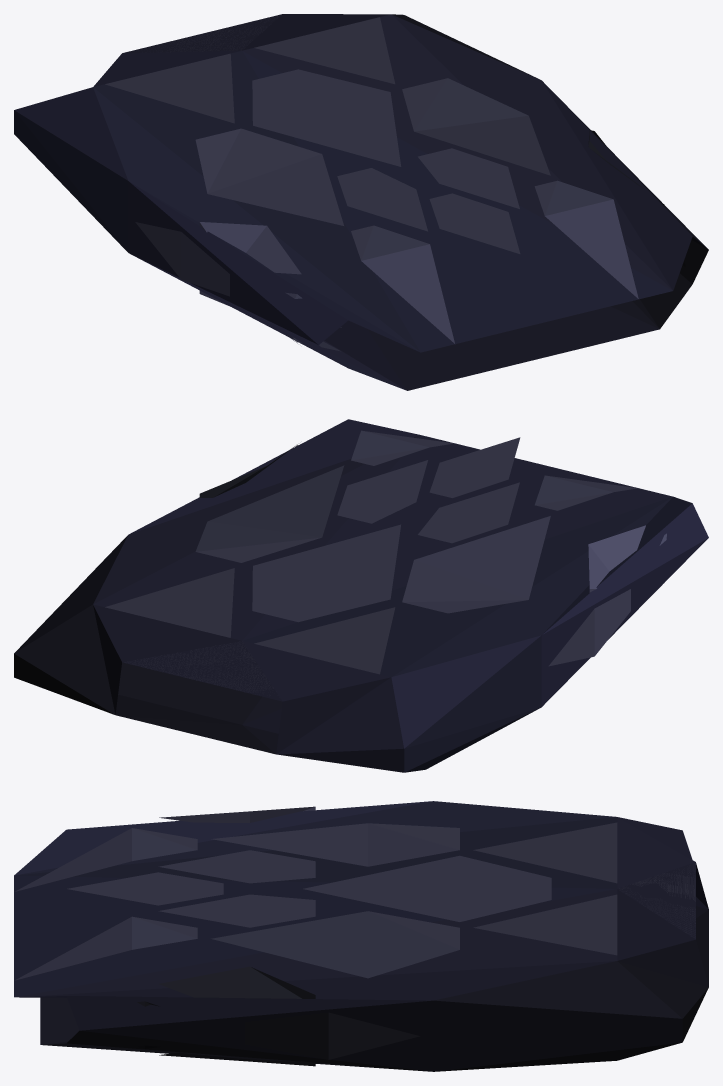
The model's file is blue-dhide-body.obj.
3 views of the same model, one above another, from view 1: azimuth 30°, elevation 25°; view 2: azimuth 150°, elevation 25°; view 3: azimuth 270°, elevation 25° (orthographic).
Parts seen in each view (by area): view 1: Item Blue d'hide body 2026-09-24_17-11-01; view 2: Item Blue d'hide body 2026-09-24_17-11-01; view 3: Item Blue d'hide body 2026-09-24_17-11-01.
Boxes of the visible parts, left/top/right/bottom form: Item Blue d'hide body 2026-09-24_17-11-01: left=14, top=14, right=708, bottom=390; Item Blue d'hide body 2026-09-24_17-11-01: left=14, top=419, right=708, bottom=772; Item Blue d'hide body 2026-09-24_17-11-01: left=14, top=801, right=708, bottom=1071.
Size of the model in its own units: 36 by 8 by 53.
